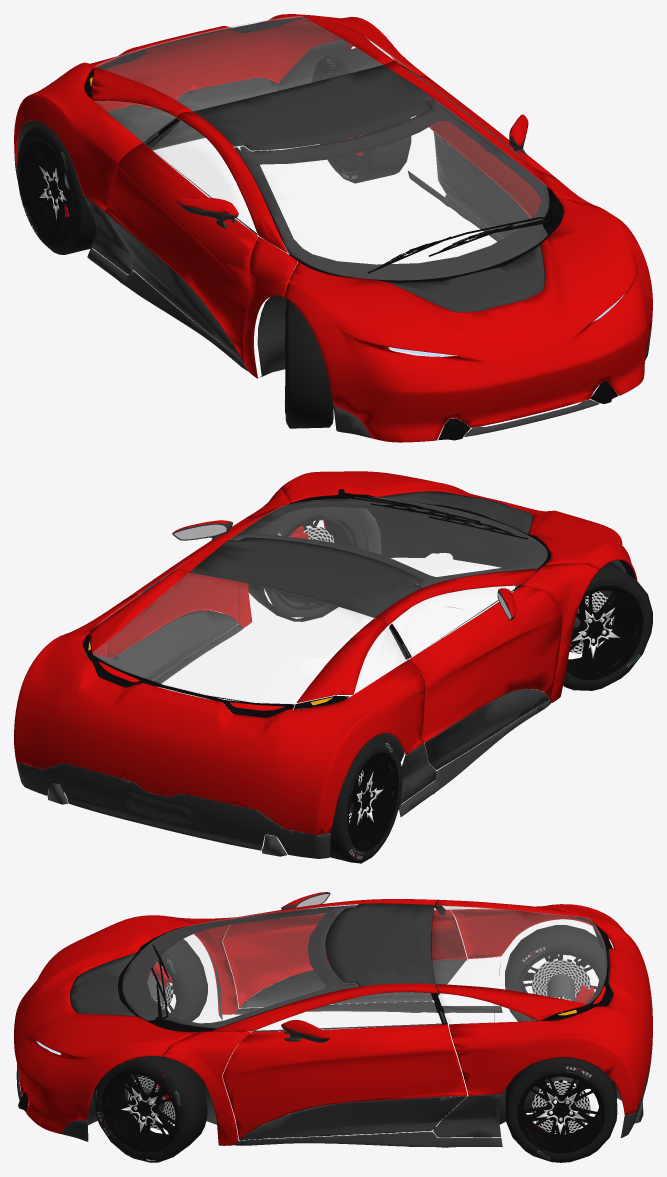
File: car.glb
The picture shows the model from 3 angles, top to bottom: view 1: azimuth 30°, elevation 25°; view 2: azimuth 150°, elevation 25°; view 3: azimuth 270°, elevation 25°; orthographic projection. The views are drawn at different scales.
Visible parts, largest first — view 1: BodyRearPanelsColor1, BodyWindshield, BodyRoofPanel, BodyWindshieldGasket, object 13, WheelFrontLRim, BodyUnderside; view 2: BodyRearPanelsColor1, BodyWindshield, BodyRoofPanel, BodyWindshieldGasket, WheelFrontLRim, object 13, BodyUnderside, WheelFrontLBrakeDisc, BodyDoorRMirror; view 3: BodyRearPanelsColor1, BodyWindshield, BodyRoofPanel, object 13, WheelFrontLRim, BodyWindshieldGasket, WheelFrontLBrakeDisc, BodyUnderside, WheelFrontLBrakePad.
Boxes of the visible parts, left/top/right/bottom form: BodyRearPanelsColor1: left=14, top=14, right=652, bottom=442; BodyWindshield: left=94, top=16, right=549, bottom=280; BodyRoofPanel: left=15, top=65, right=651, bottom=438; BodyWindshieldGasket: left=84, top=17, right=618, bottom=440; object 13: left=17, top=48, right=602, bottom=428; WheelFrontLRim: left=20, top=69, right=366, bottom=413; BodyUnderside: left=16, top=39, right=544, bottom=377; BodyRearPanelsColor1: left=14, top=471, right=637, bottom=834; BodyWindshield: left=92, top=497, right=547, bottom=703; BodyRoofPanel: left=16, top=491, right=550, bottom=858; BodyWindshieldGasket: left=82, top=489, right=635, bottom=717; WheelFrontLRim: left=274, top=516, right=643, bottom=851; object 13: left=49, top=502, right=652, bottom=863; BodyUnderside: left=47, top=507, right=626, bottom=856; WheelFrontLBrakeDisc: left=289, top=525, right=613, bottom=823; BodyDoorRMirror: left=174, top=524, right=511, bottom=619; BodyRearPanelsColor1: left=14, top=892, right=652, bottom=1145; BodyWindshield: left=122, top=904, right=606, bottom=1031; BodyRoofPanel: left=16, top=892, right=652, bottom=1147; object 13: left=93, top=925, right=617, bottom=1162; WheelFrontLRim: left=102, top=951, right=605, bottom=1153; BodyWindshieldGasket: left=18, top=901, right=612, bottom=1112; WheelFrontLBrakeDisc: left=127, top=958, right=590, bottom=1134; BodyUnderside: left=87, top=942, right=643, bottom=1129; WheelFrontLBrakePad: left=150, top=963, right=594, bottom=1130.
Size of the model in its own units: 2.54 by 1.15 by 4.36.
15 materials, 4 textured.
